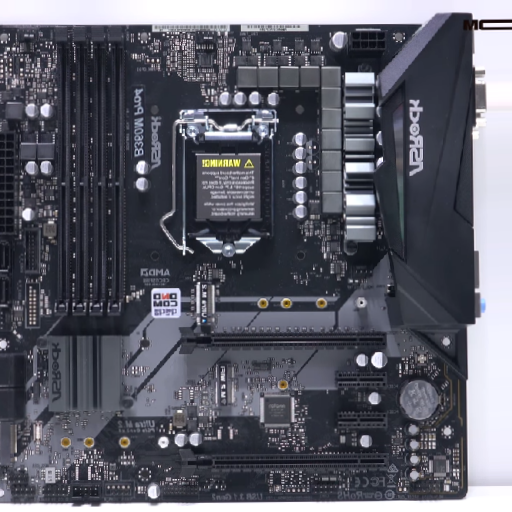CPU: (178, 107, 278, 258)
GPU: (177, 447, 391, 478), (180, 325, 387, 355)
MOTHERBOARD: (1, 22, 468, 501)
RAM: (54, 26, 125, 317)
SSD: (194, 277, 217, 327), (214, 361, 236, 405)
